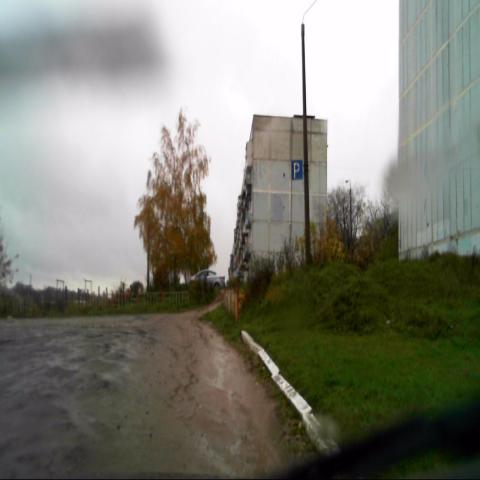6_4: (291, 159, 303, 180)
